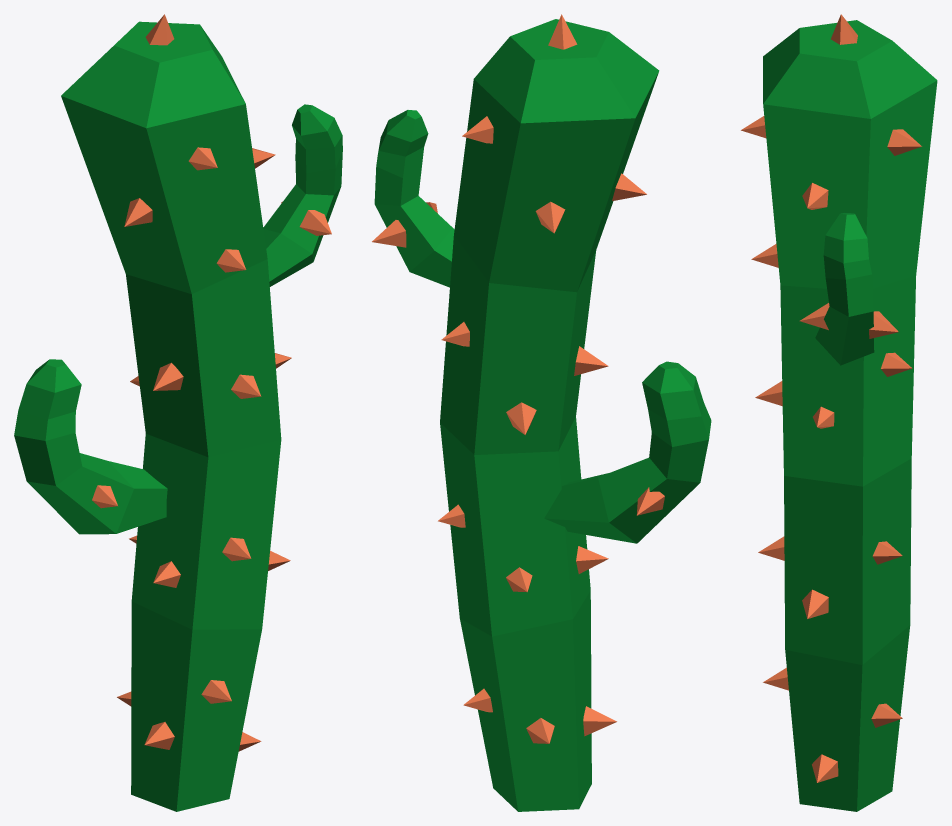
File: Cactus.fbx
The picture shows the model from 3 angles, left to right: view 1: azimuth 30°, elevation 25°; view 2: azimuth 150°, elevation 25°; view 3: azimuth 270°, elevation 25°; orthographic projection.
Visible parts, largest first — view 1: Cactus, Spikes; view 2: Cactus, Spikes; view 3: Cactus, Spikes.
Part boxes in pixels (x1,y1,x2,y2): Cactus: (14,21,342,811); Spikes: (92,14,331,751); Cactus: (374,19,711,811); Spikes: (372,14,664,743); Cactus: (763,20,937,811); Spikes: (741,14,921,782).
Bounding box in the file's own units: 389 × 880 × 204.
